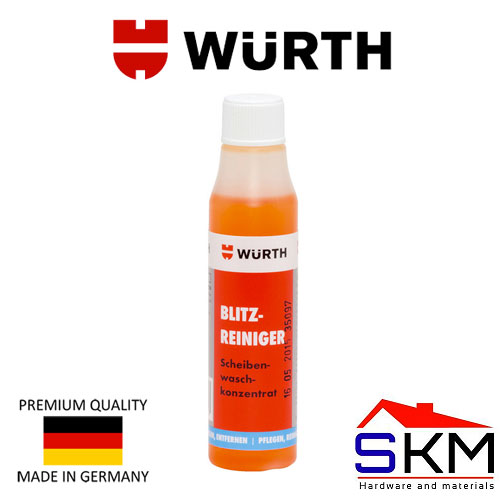Cleaning_solution: (201, 88, 302, 474)
